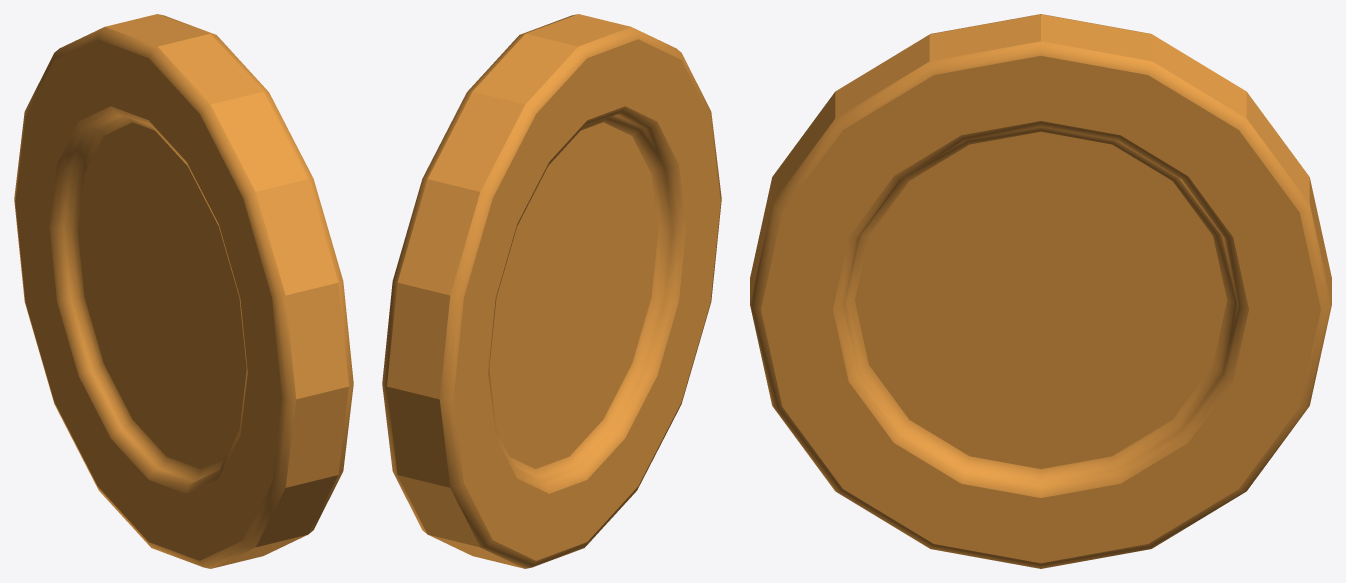
File: coin.fbx
3 renders of one model, left to right at view 1: azimuth 30°, elevation 25°; view 2: azimuth 150°, elevation 25°; view 3: azimuth 270°, elevation 25°, orthographic. The views are drawn at different scales.
Visible parts, largest first — view 1: bitcoin.001; view 2: bitcoin.001; view 3: bitcoin.001.
Part boxes in pixels (x1,y1,x2,y2): bitcoin.001: (14,14,353,568); bitcoin.001: (382,14,721,568); bitcoin.001: (750,14,1331,568).
Bounding box in the file's own units: 7.24 × 49.35 × 49.35.
